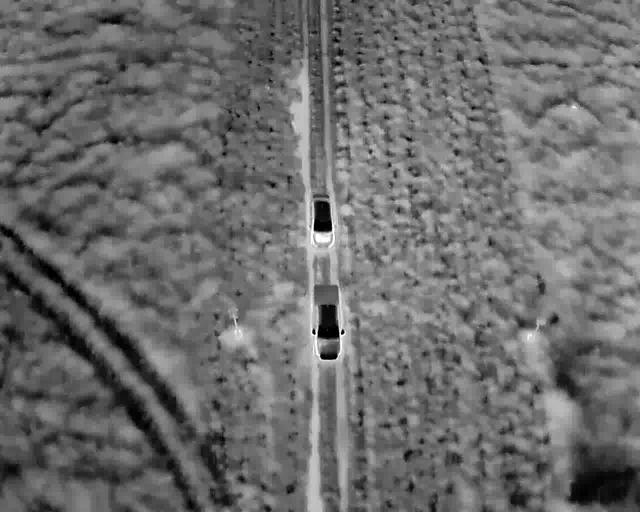car: (310, 282, 345, 361), (309, 191, 336, 249)
